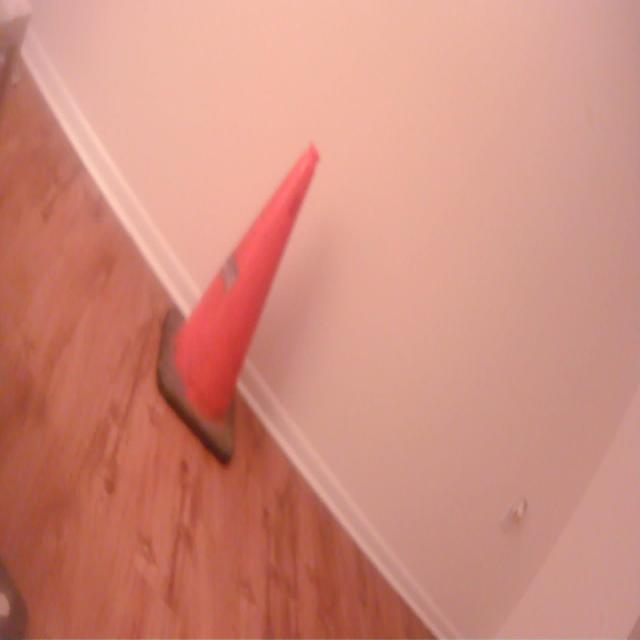traffic cone: (154, 140, 326, 471)
